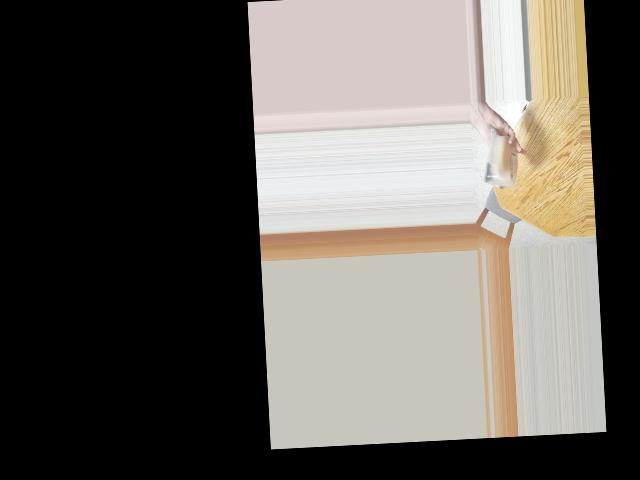cheese: (485, 137, 518, 185)
